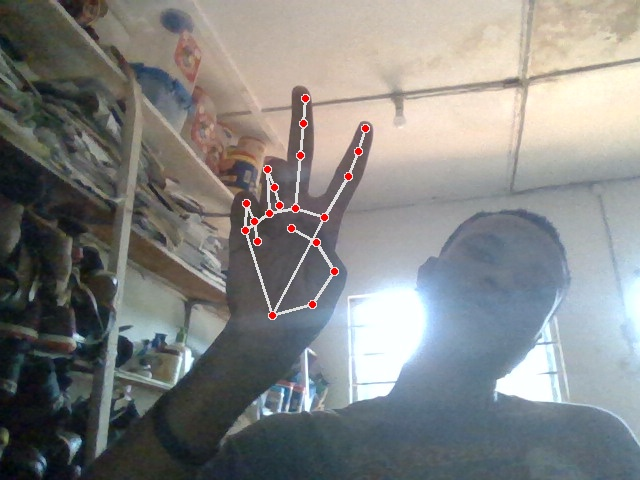peace: (228, 86, 373, 355)
